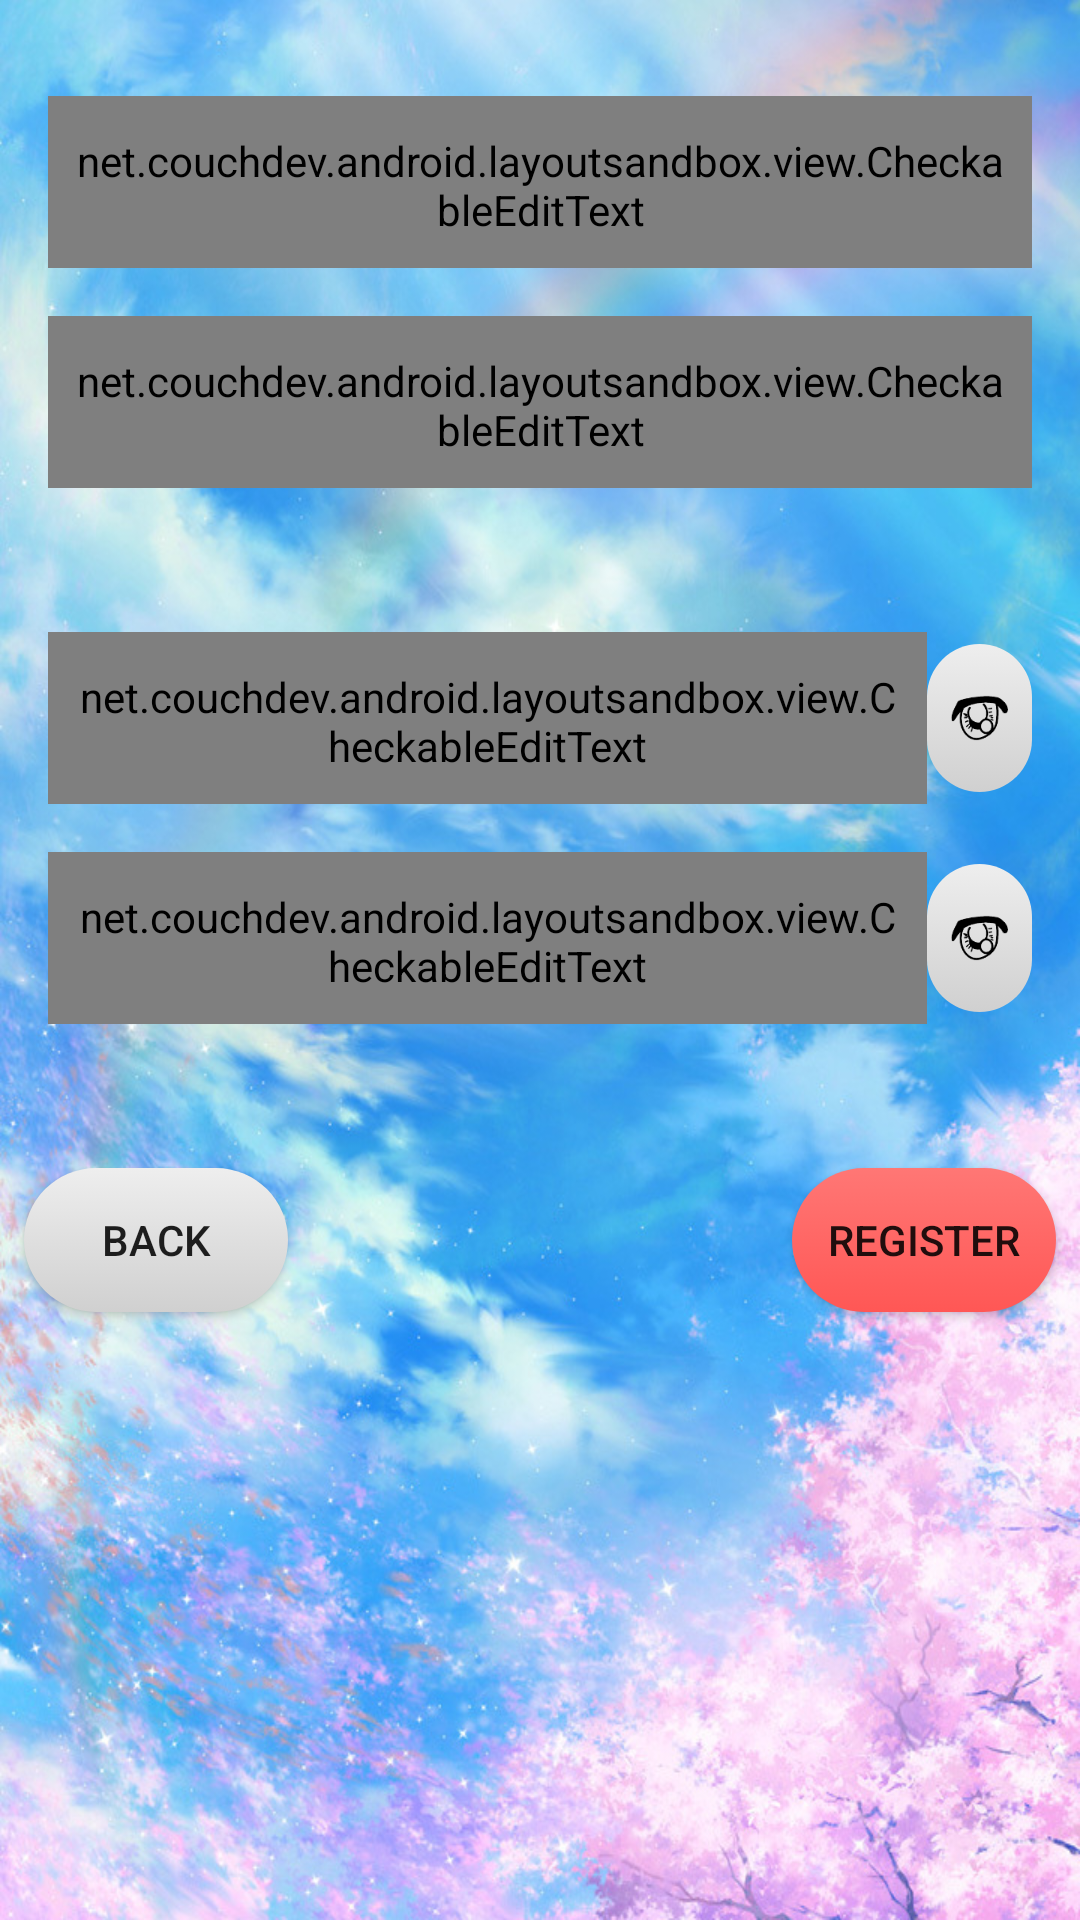

Icons on this 1080×1920 Android screen, each with the point to tap as (x,y):
eye: (979,718), (979,938)
